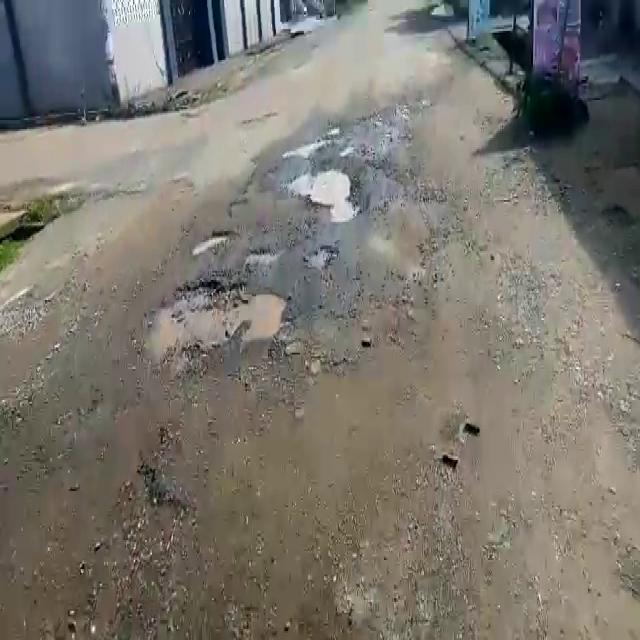Pothole: (139, 276, 292, 359), (284, 163, 356, 222), (194, 230, 234, 258), (299, 244, 338, 271), (243, 248, 278, 264)
